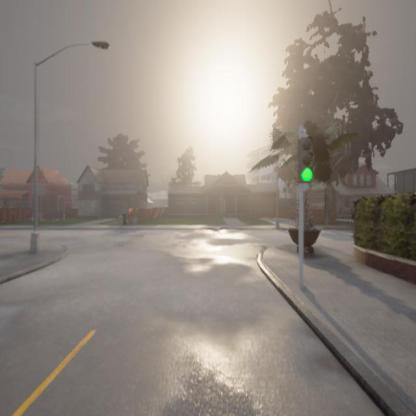traffic_light_green: (298, 136, 314, 184)
